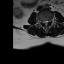CCS_normal: (45, 19, 47, 27)
LFS_stenosis: (48, 18, 50, 23)
LLS_stenosis: (47, 19, 48, 24)
RFS_stenosis: (41, 19, 43, 24)
RLS_stenosis: (43, 19, 45, 25)
